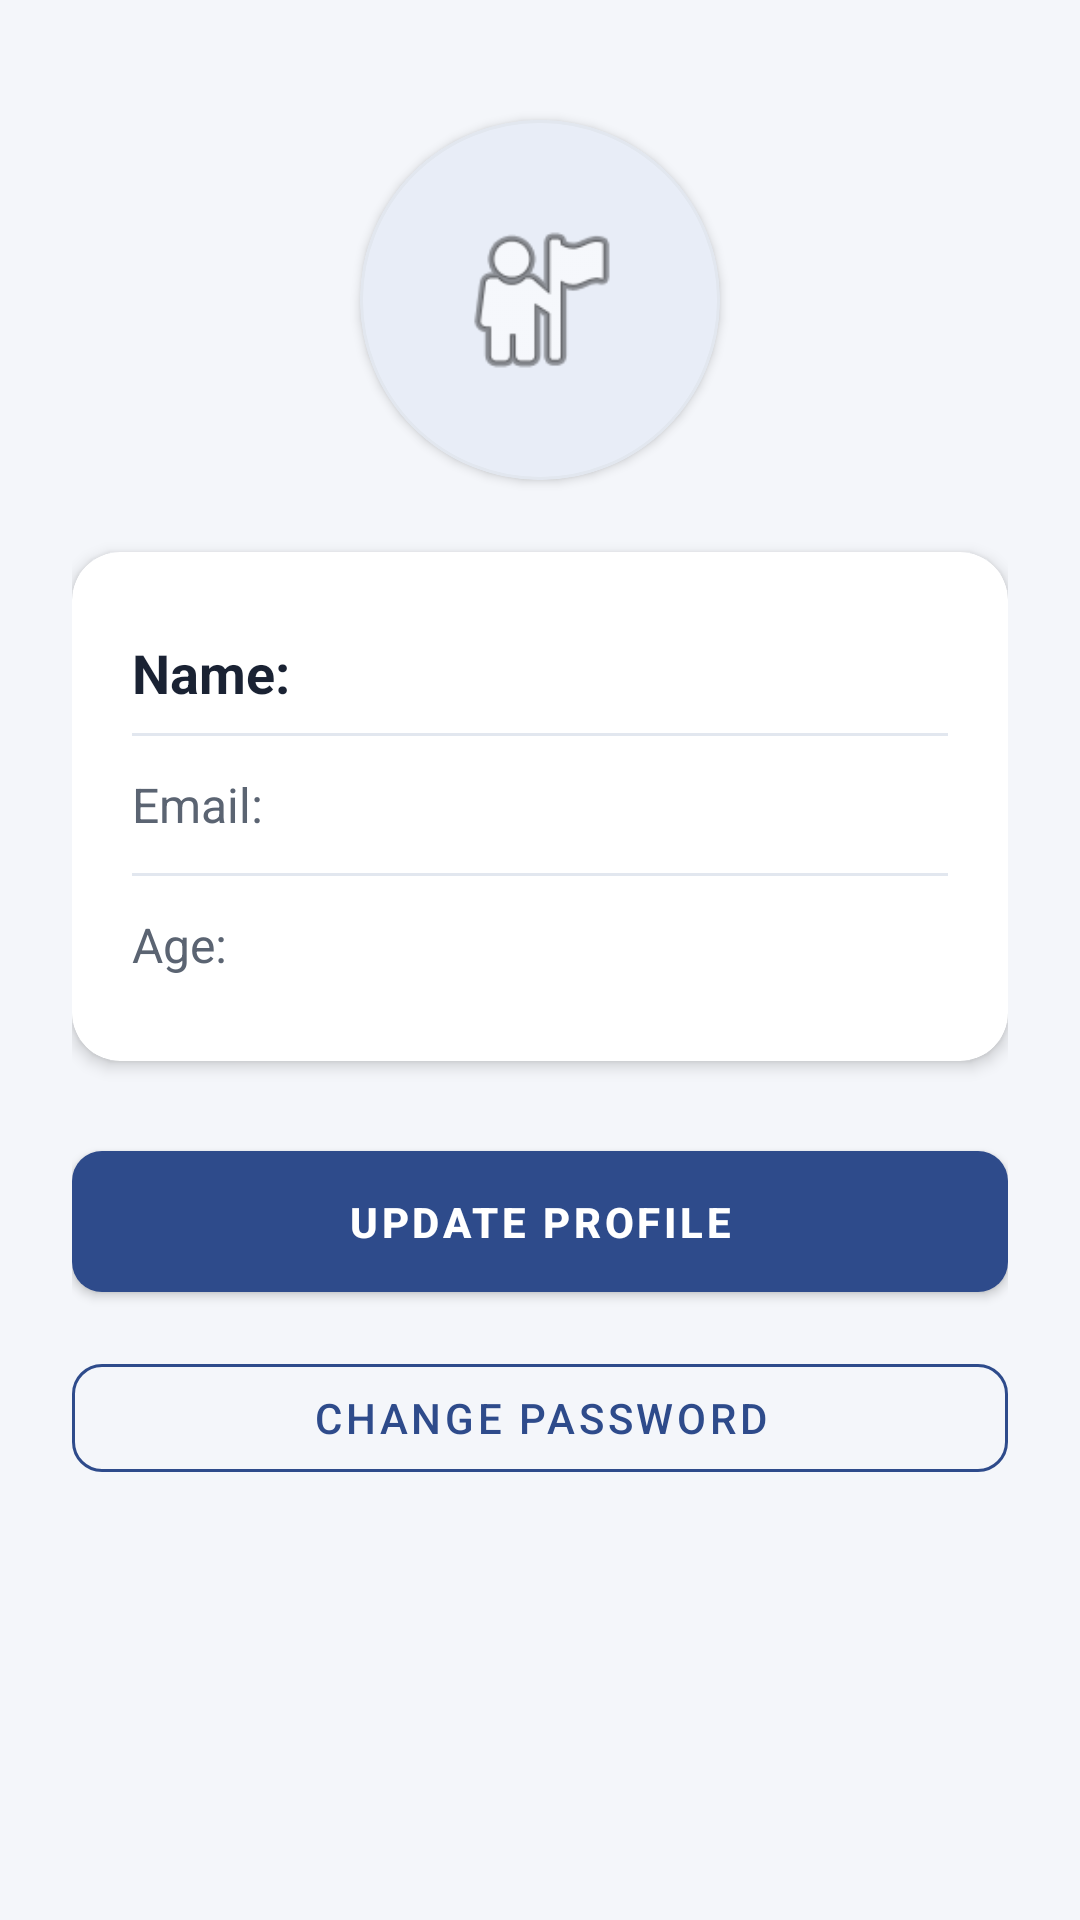

Locate icon controls on the screen. Image size 1080×1920, boxes as Rect(x1, y1, x2, y2).
Profile photo: Rect(360, 120, 720, 480)
